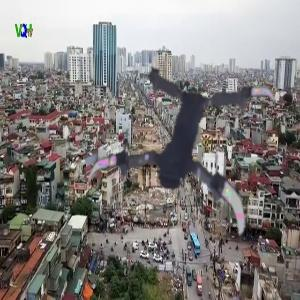drone: (85, 63, 276, 254)
